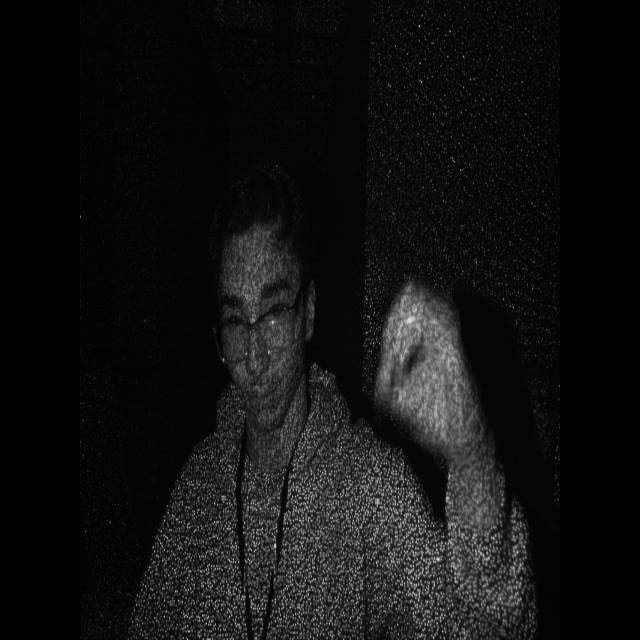O: (367, 264, 490, 489)
